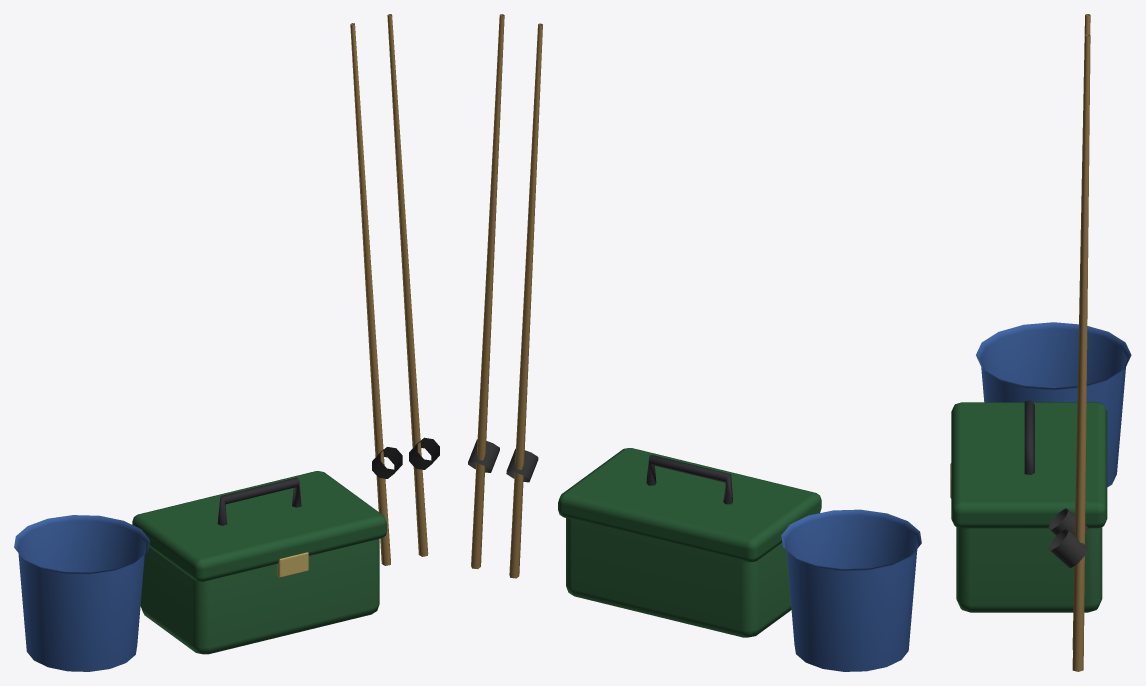
Rendered from tackle.glb.
3 views of the same model, side by side, from view 1: azimuth 30°, elevation 25°; view 2: azimuth 150°, elevation 25°; view 3: azimuth 270°, elevation 25° (orthographic). The views are drawn at different scales.
Visible parts, largest first — view 1: tackle_main; view 2: tackle_main; view 3: tackle_main.
Part boxes in pixels (x1,y1,x2,y2): tackle_main: (14, 14, 439, 671); tackle_main: (468, 14, 921, 671); tackle_main: (950, 14, 1131, 671).
Bounding box in the file's own units: 1.13 × 1.4 × 0.372.
